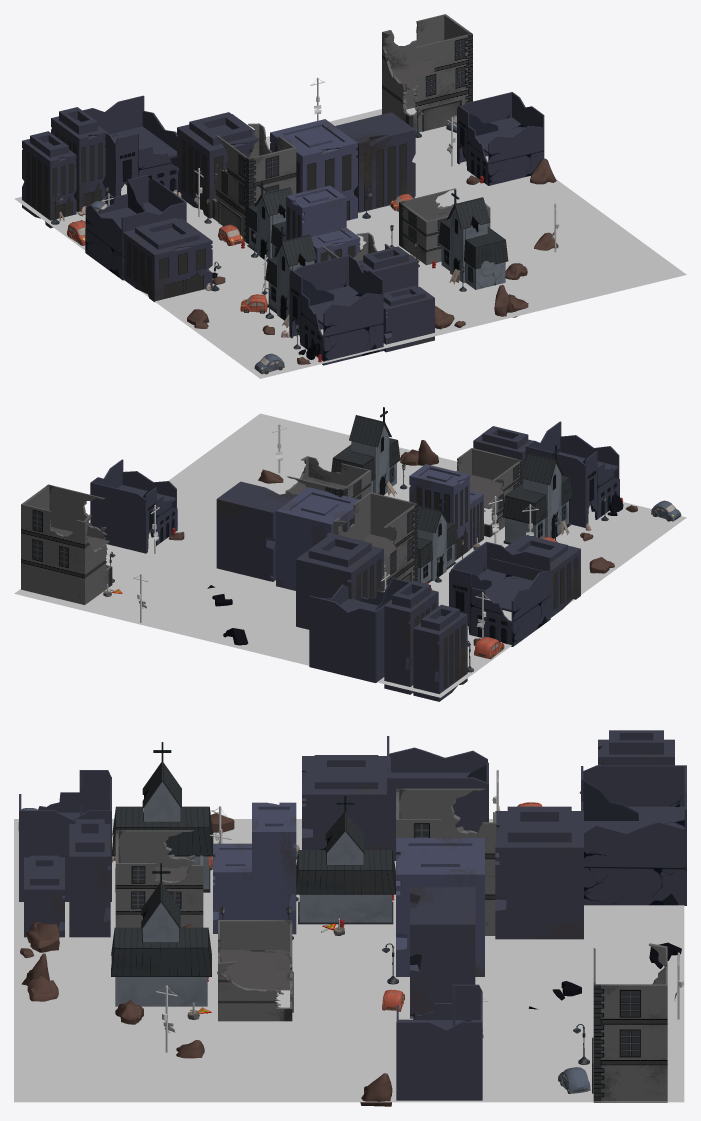
File: ProjectEVE_environment.FBX
3 renders of one model, top to bottom at view 1: azimuth 30°, elevation 25°; view 2: azimuth 150°, elevation 25°; view 3: azimuth 270°, elevation 25°, orthographic. The views are drawn at different scales.
Parts seen in each view (by area): view 1: ground, 1building_006, 3building_002, 1building_007, 2buidling_002, 1building_005, 2buidling_003, 3building_001, 1building_002, 2buidling_004, 2buidling_001, curch001 (+9 smaller); view 2: ground, 3building_002, 1building_002, 1building_005, 1building_007, 2buidling_003, 2buidling_001, 1building_006, 3building_001, curch002, 2buidling_004, 2buidling_009 (+10 smaller); view 3: ground, 1building_005, 2buidling_001, 3building_002, curch001, 1building_007, curch, 2buidling_003, 3building_003, 2buidling_002, 3building_004, 2buidling_004 (+13 smaller).
Part boxes in pixels (<box>): ground: <box>14,107,686,378</box>; 1building_006: <box>289,255,383,365</box>; 3building_002: <box>382,14,472,132</box>; 1building_007: <box>457,92,544,185</box>; 2buidling_002: <box>123,217,212,302</box>; 1building_005: <box>82,95,179,205</box>; 2buidling_003: <box>335,112,415,212</box>; 3building_001: <box>212,123,296,243</box>; 1building_002: <box>85,175,186,280</box>; 2buidling_004: <box>270,119,357,220</box>; 2buidling_001: <box>177,112,257,218</box>; curch001: <box>438,189,508,289</box>; ground: <box>14,413,686,697</box>; 3building_002: <box>21,484,112,604</box>; 1building_002: <box>449,541,550,646</box>; 1building_005: <box>309,577,409,682</box>; 1building_007: <box>90,459,177,553</box>; 2buidling_003: <box>216,481,296,581</box>; 2buidling_001: <box>296,533,383,629</box>; 1building_006: <box>525,421,619,527</box>; 3building_001: <box>333,492,417,590</box>; curch002: <box>502,445,572,544</box>; 2buidling_004: <box>276,487,359,590</box>; 2buidling_009: <box>413,604,467,701</box>; ground: <box>14,819,684,1102</box>; 1building_005: <box>581,765,686,905</box>; 2buidling_001: <box>495,806,583,939</box>; 3building_002: <box>592,943,667,1102</box>; curch001: <box>111,862,211,1006</box>; 1building_007: <box>396,984,482,1100</box>; curch: <box>296,795,395,924</box>; 2buidling_003: <box>410,887,475,1018</box>; 3building_003: <box>218,920,293,1021</box>; 2buidling_002: <box>302,755,390,849</box>; 3building_004: <box>115,830,203,933</box>; 2buidling_004: <box>396,838,484,976</box>.
Bounding box in the file's own units: 150 × 36.71 × 151.
